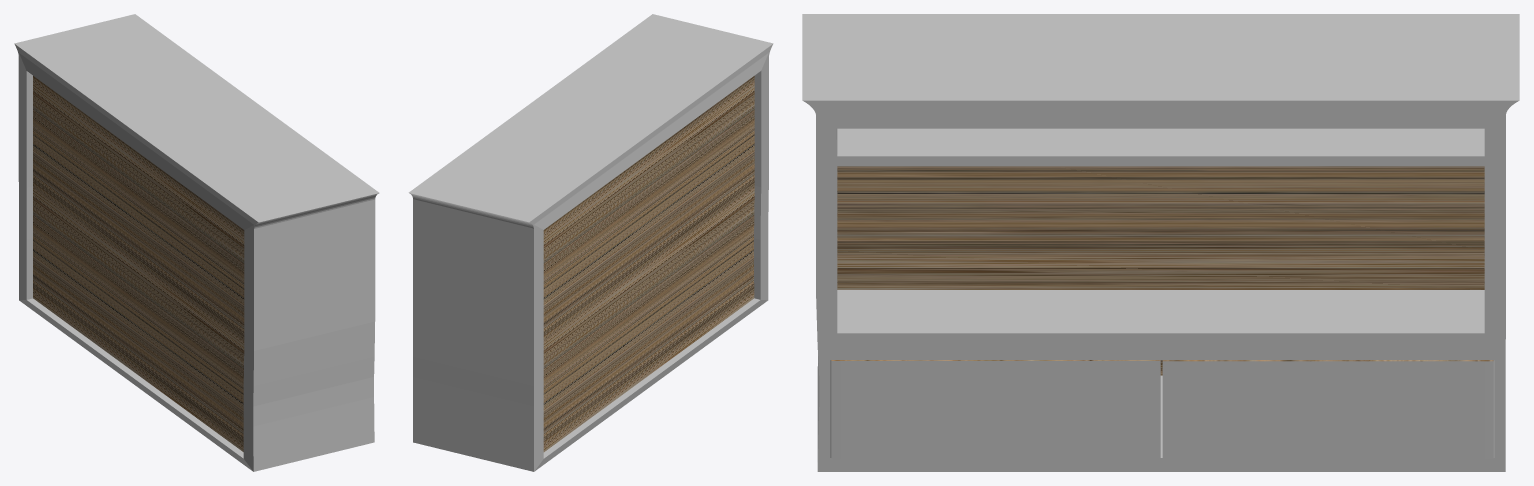
The model's file is GamesRoomBookshelf 3.fbx.
The picture shows the model from 3 angles, left to right: view 1: azimuth 30°, elevation 25°; view 2: azimuth 150°, elevation 25°; view 3: azimuth 270°, elevation 25°; orthographic projection. The views are drawn at different scales.
Parts seen in each view (by area): view 1: TV Cabinate; view 2: TV Cabinate; view 3: TV Cabinate.
Boxes of the visible parts, left/top/right/bottom form: TV Cabinate: left=14, top=14, right=379, bottom=471; TV Cabinate: left=408, top=14, right=773, bottom=471; TV Cabinate: left=802, top=14, right=1519, bottom=471.
Bounding box in the file's own units: 103 × 200 × 350.
